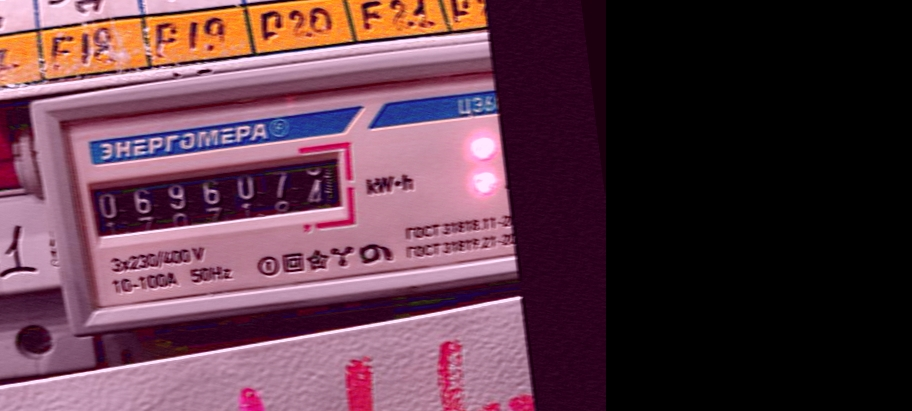0: (234, 172, 257, 204), (97, 192, 118, 222)
4: (305, 179, 324, 209)
6: (131, 187, 154, 217), (200, 179, 222, 210)
7: (270, 170, 291, 202)
9: (166, 184, 187, 214)
screen: (72, 136, 365, 259)
